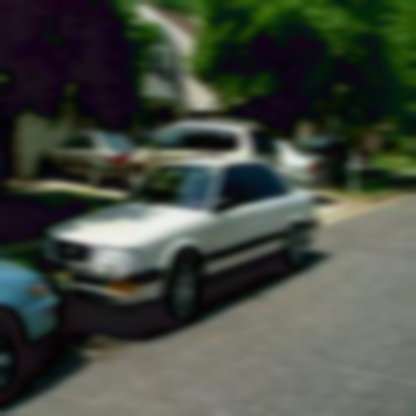Vehicle: (46, 158, 322, 333)
